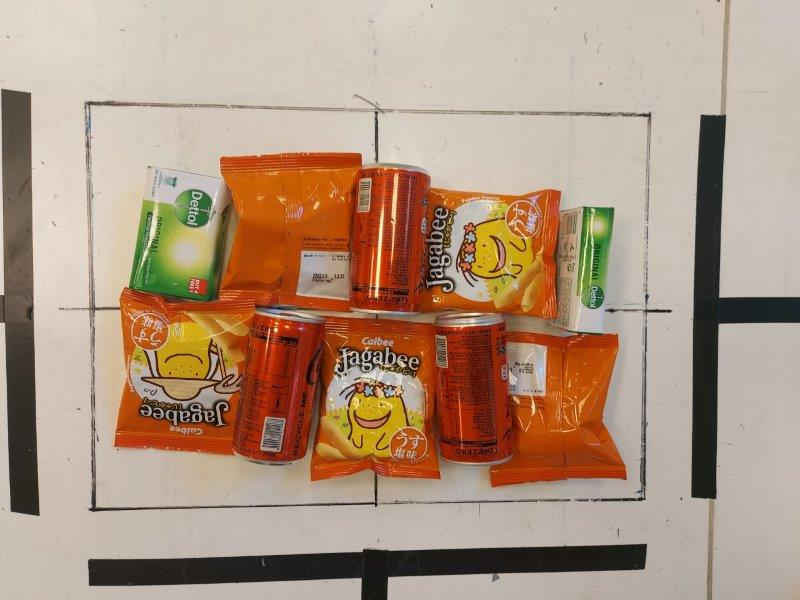Coke: (233, 309, 324, 466), (435, 312, 512, 464), (353, 162, 427, 317)
Dettol: (129, 164, 234, 302), (556, 207, 613, 332)
Jagabee: (114, 288, 254, 457), (218, 152, 358, 312), (490, 332, 626, 483), (315, 317, 437, 478), (427, 184, 558, 318)
